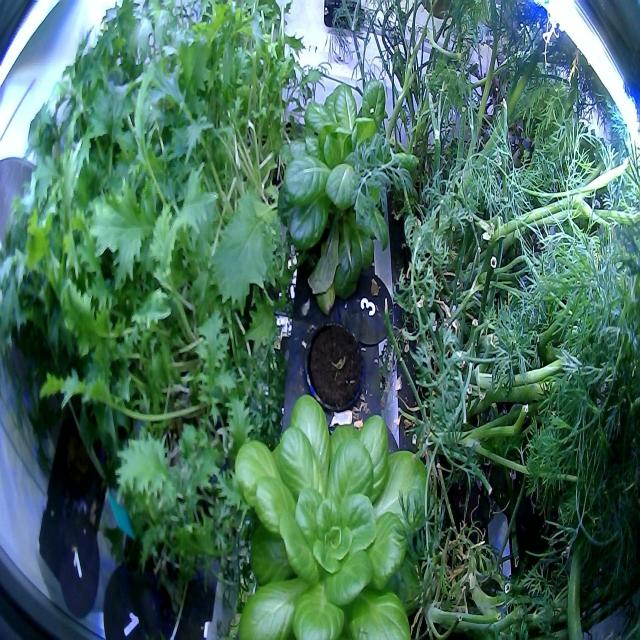pod: (300, 316, 368, 419)
young: (204, 385, 438, 639), (271, 69, 426, 319)
